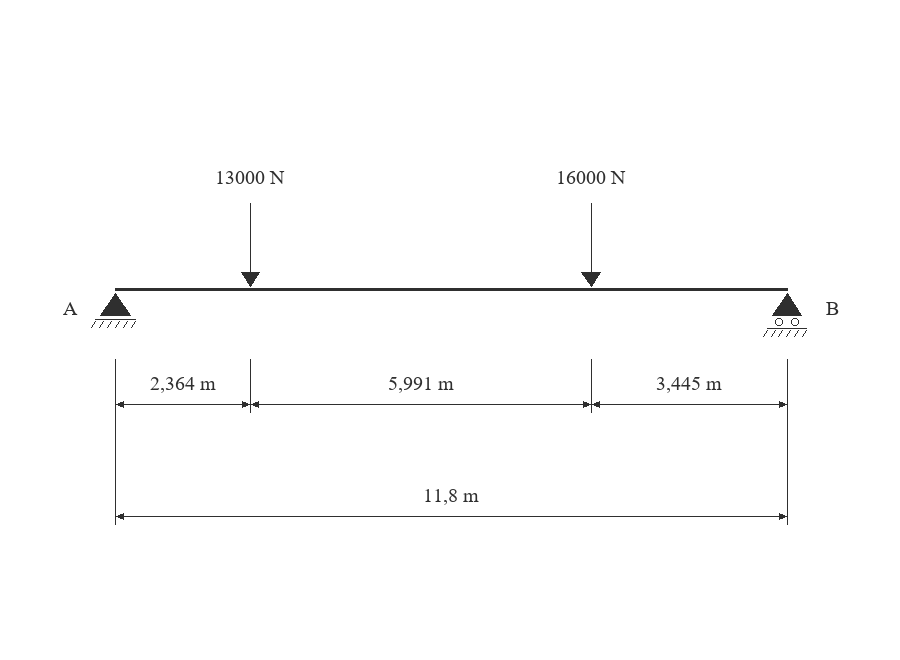pin_support: (91, 293, 136, 328)
point_load: (581, 203, 601, 287), (241, 203, 260, 287)
roller_support: (763, 293, 807, 337)
